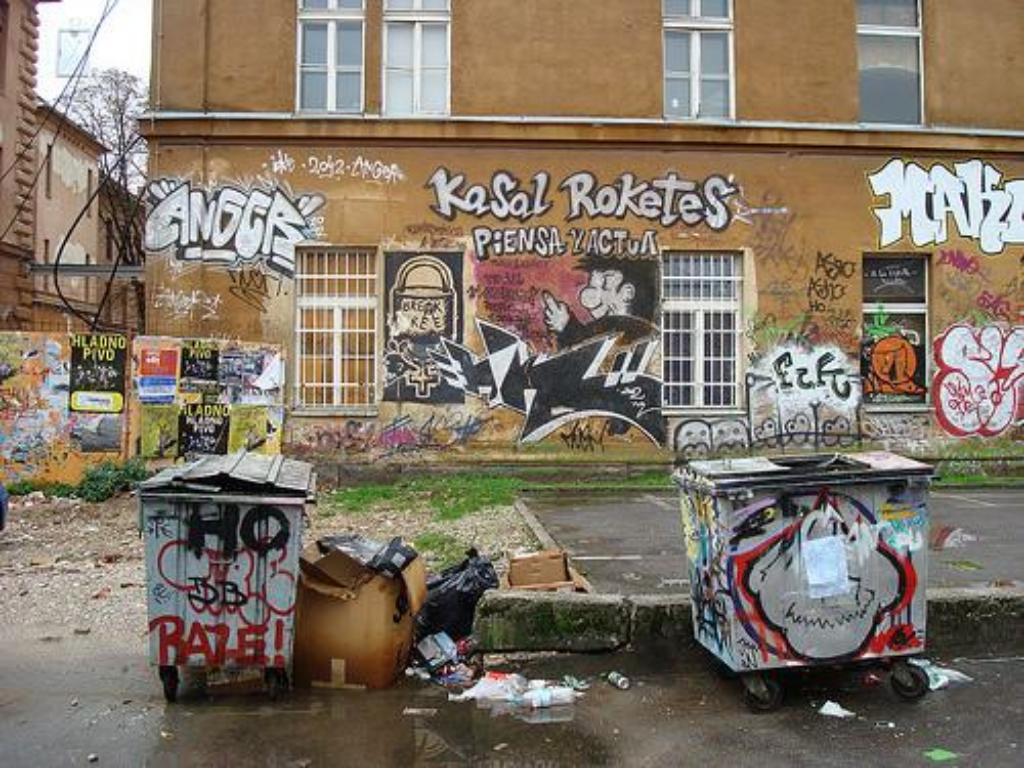dustbin: (672, 450, 953, 716), (123, 429, 329, 714)
